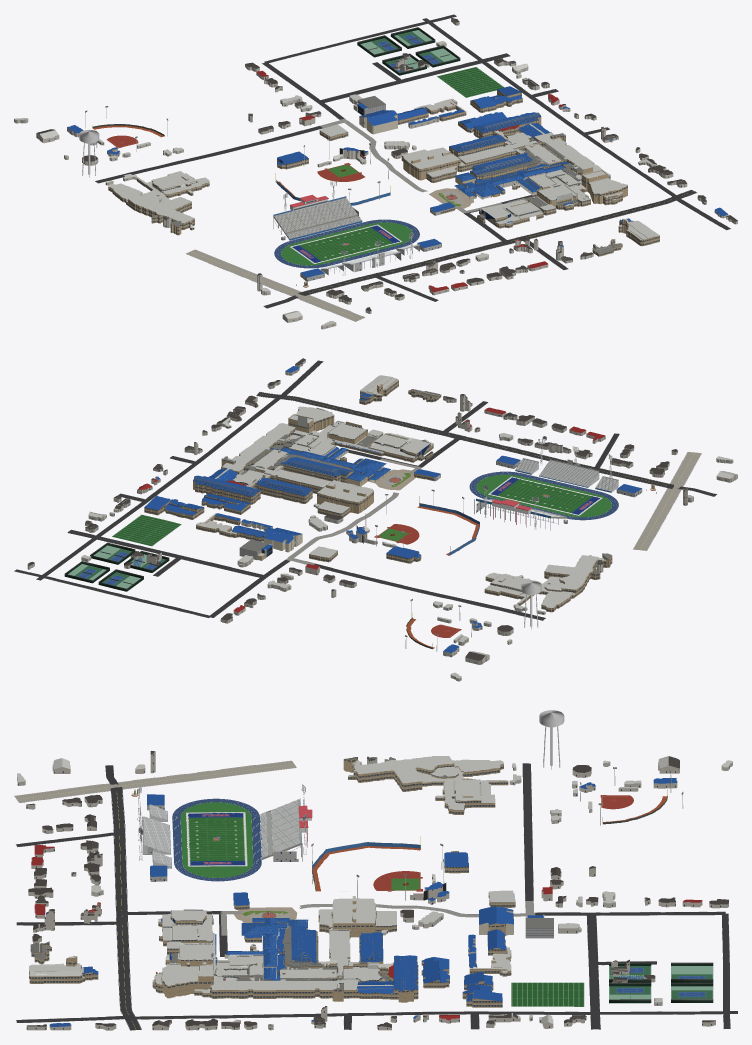
The model's file is wmhs-v3-partB-roads-buildings-stadium-fields-mobile.glb.
The picture shows the model from 3 angles, top to bottom: view 1: azimuth 30°, elevation 25°; view 2: azimuth 150°, elevation 25°; view 3: azimuth 270°, elevation 25°; orthographic projection. The views are drawn at different scales.
Visible parts, largest first — view 1: Buildings_LiDAR, Roads, Stadium_FieldTrackStands, BallFields_Tennis_Practice_SportsMed, Landmarks_Boardwalk_Plaza_Marquee; view 2: Buildings_LiDAR, Roads, Stadium_FieldTrackStands, BallFields_Tennis_Practice_SportsMed, Landmarks_Boardwalk_Plaza_Marquee; view 3: Buildings_LiDAR, Roads, Stadium_FieldTrackStands, BallFields_Tennis_Practice_SportsMed, Landmarks_Boardwalk_Plaza_Marquee, RoadPaint.
Part boxes in pixels (x1=…): Buildings_LiDAR: x1=14, y1=18, x2=737, y2=329; Roads: x1=95, y1=14, x2=730, y2=321; Stadium_FieldTrackStands: x1=273, y1=194, x2=419, y2=275; BallFields_Tennis_Practice_SportsMed: x1=79, y1=27, x2=504, y2=205; Landmarks_Boardwalk_Plaza_Marquee: x1=296, y1=165, x2=564, y2=287; Buildings_LiDAR: x1=27, y1=358, x2=737, y2=681; Roads: x1=14, y1=360, x2=716, y2=620; Stadium_FieldTrackStands: x1=469, y1=458, x2=618, y2=530; BallFields_Tennis_Practice_SportsMed: x1=64, y1=489, x2=541, y2=651; Landmarks_Boardwalk_Plaza_Marquee: x1=280, y1=447, x2=656, y2=493; Buildings_LiDAR: x1=17, y1=751, x2=732, y2=1030; Roads: x1=14, y1=760, x2=737, y2=1030; Stadium_FieldTrackStands: x1=142, y1=798, x2=312, y2=881; BallFields_Tennis_Practice_SportsMed: x1=311, y1=710, x2=713, y2=1006; Landmarks_Boardwalk_Plaza_Marquee: x1=131, y1=789, x2=308, y2=979; RoadPaint: x1=18, y1=761, x2=296, y2=1029.
Size of the model in its own units: 568 by 54.7 by 643.
Materials: 69 (38 with a texture image).
